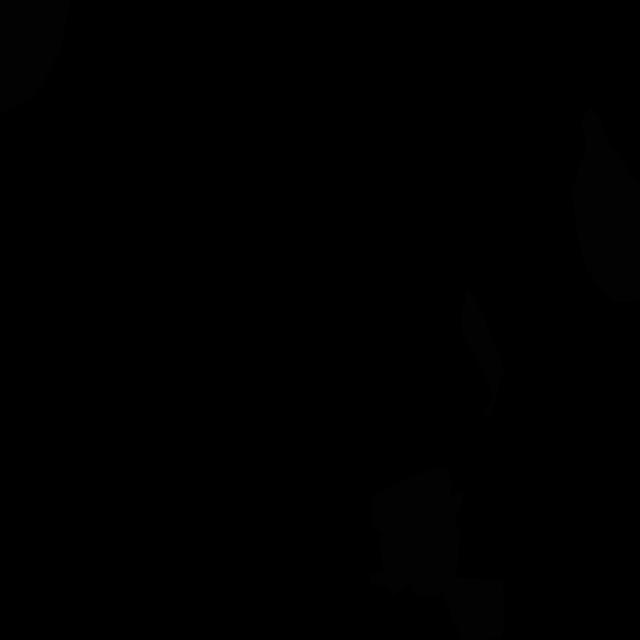cardboard: (368, 467, 505, 640), (572, 107, 640, 303), (461, 289, 506, 421)
